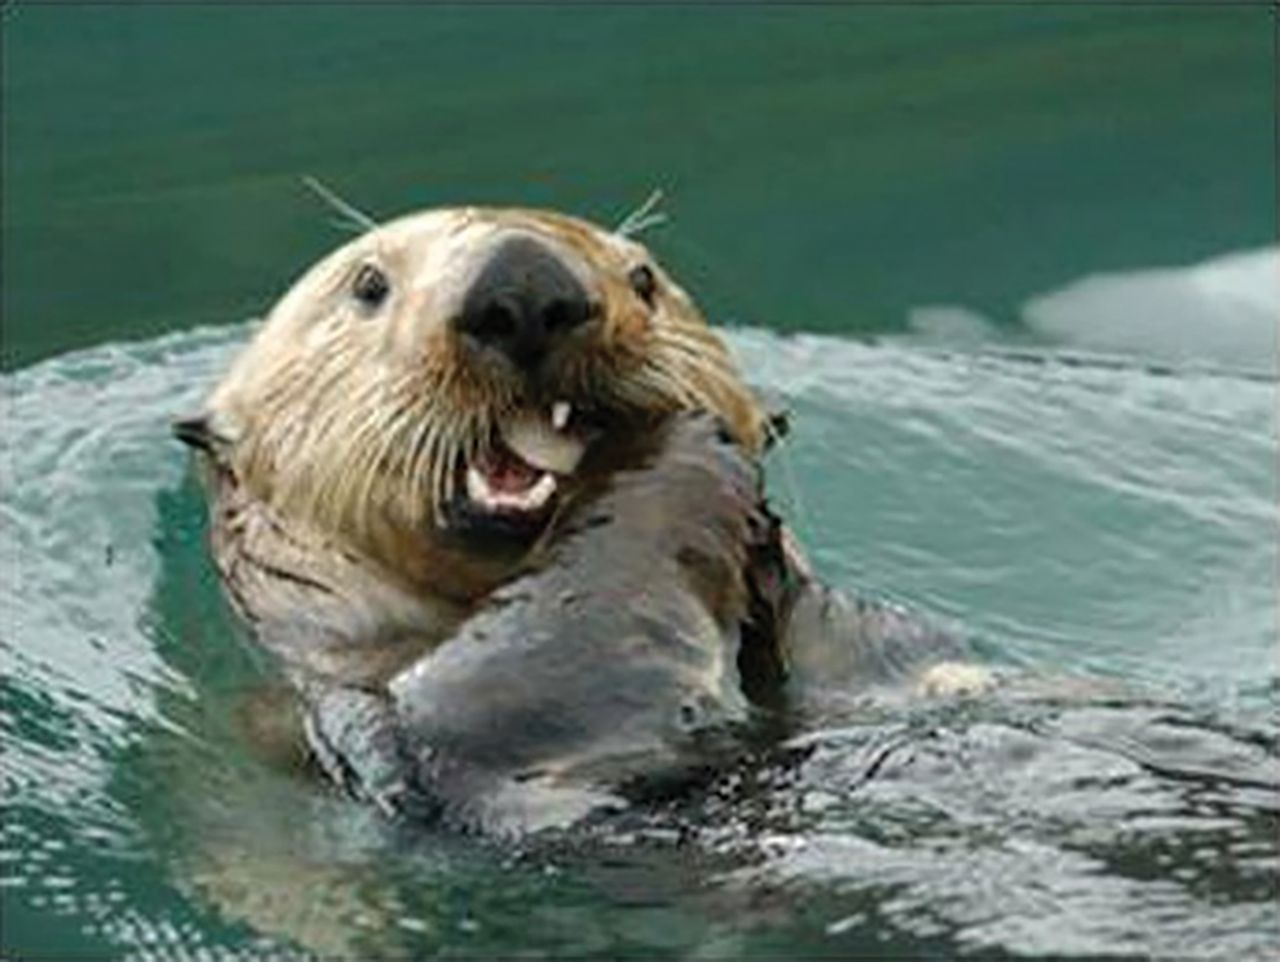otter: (144, 95, 980, 814)
